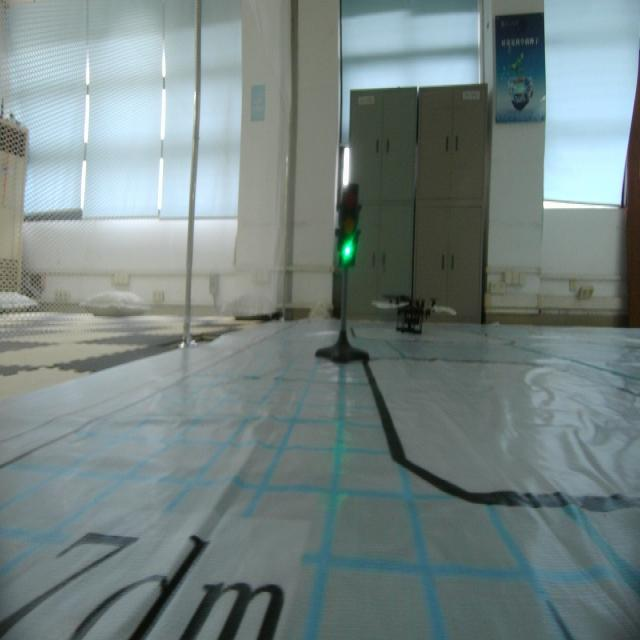green: (338, 184, 359, 265)
